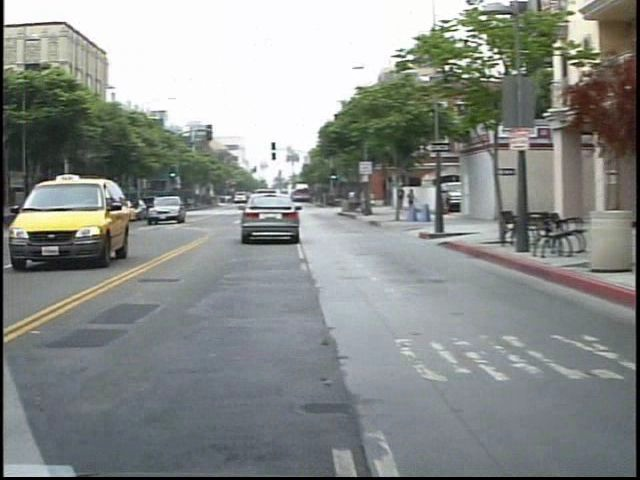person: (395, 186, 410, 221), (332, 186, 349, 216)
